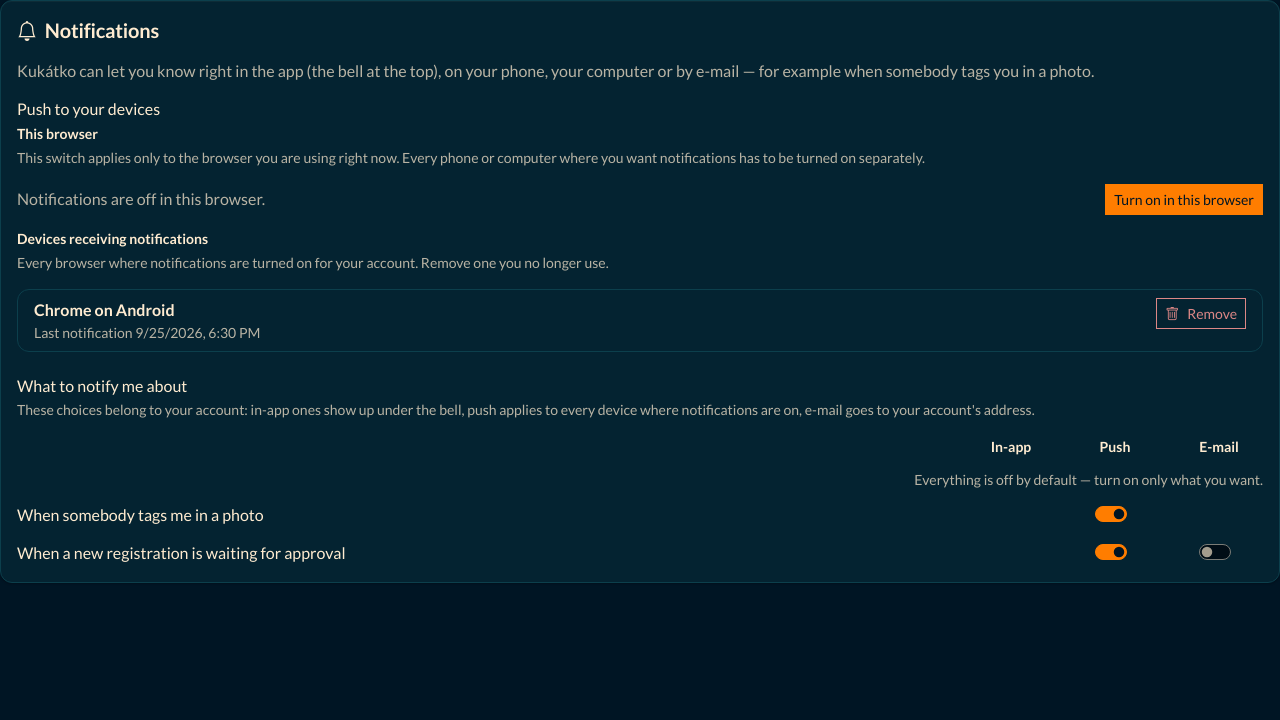
Test: NotificationsCard — kinds × channels › puts the choice back and says so when the save fails
Check: the heading "What to notify me about" is shown, box [17,376,187,395]
Step 1. Click the checkbox named "When a new registration is waiting for approval — E-mail" → coordinates (1215, 552), box [1199,544,1231,560]
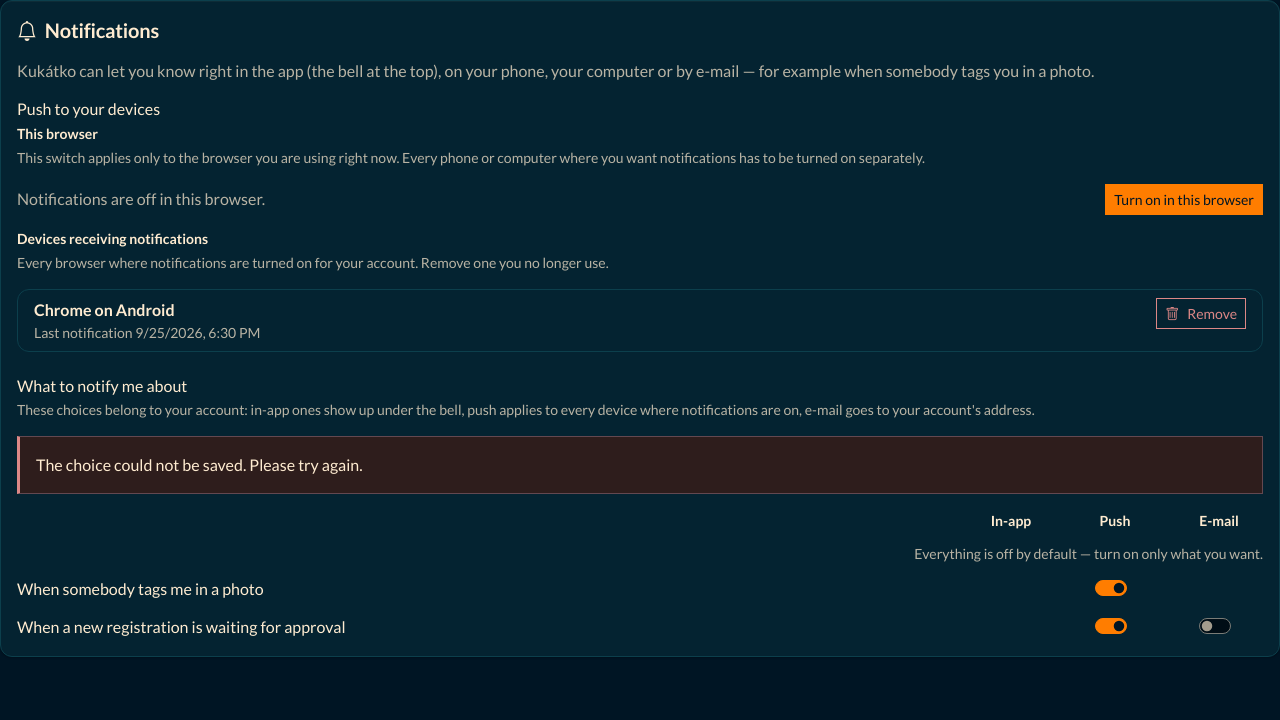
Check: the checkbox named "When a new registration is waiting for approval — E-mail" is not checked, box [1199,618,1231,634]
Check: the text "The choice could not be saved. Please try again." is shown, box [17,436,1263,494]
